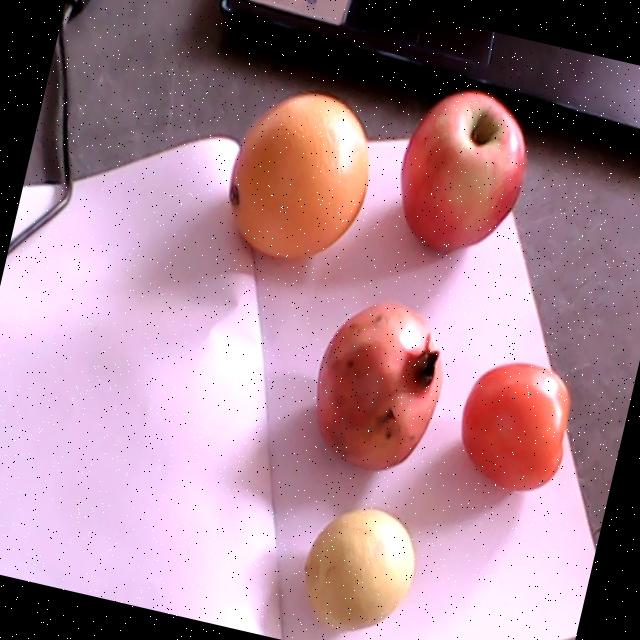apple: (402, 91, 526, 254)
lemon: (303, 509, 416, 625)
orange: (229, 93, 370, 258)
pomegranate: (316, 302, 443, 470)
tomato: (461, 364, 570, 490)
